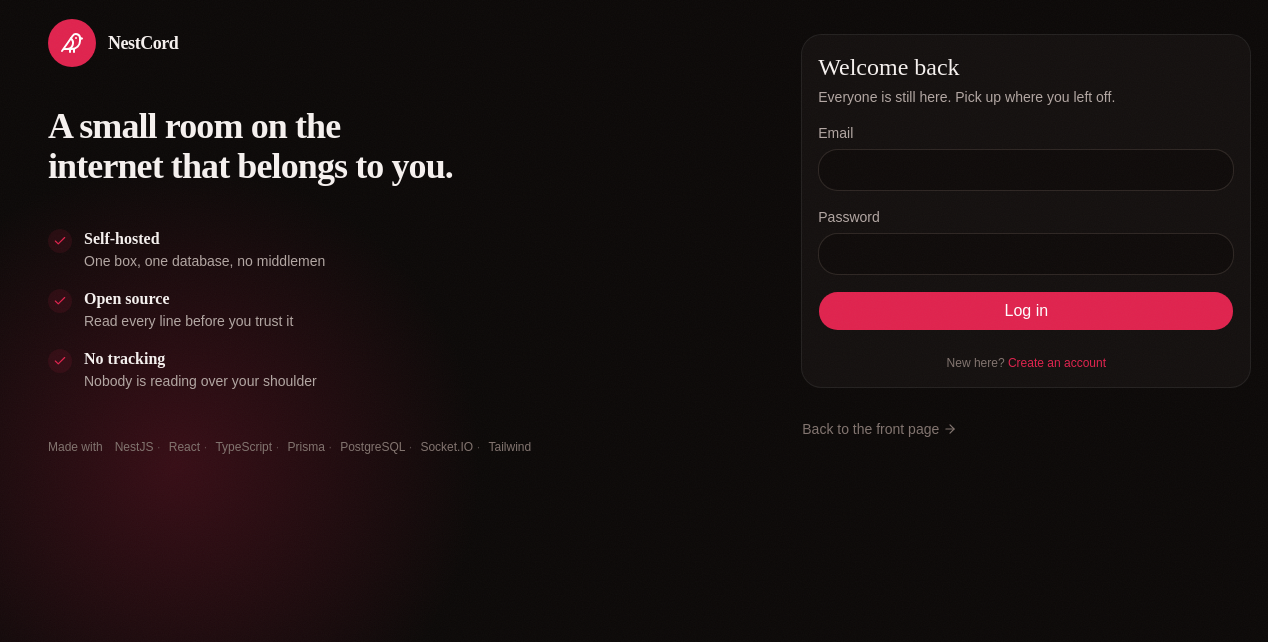
it: login flow › shows the server error and stays put when the password is wrong
The image size is (1268, 642).
Expected: the button "Log in" is shown, [818,291,1234,331]
Type "ada@nestcord.local" into the field labelled "Email" at (1026, 170), box [818,149,1234,191]
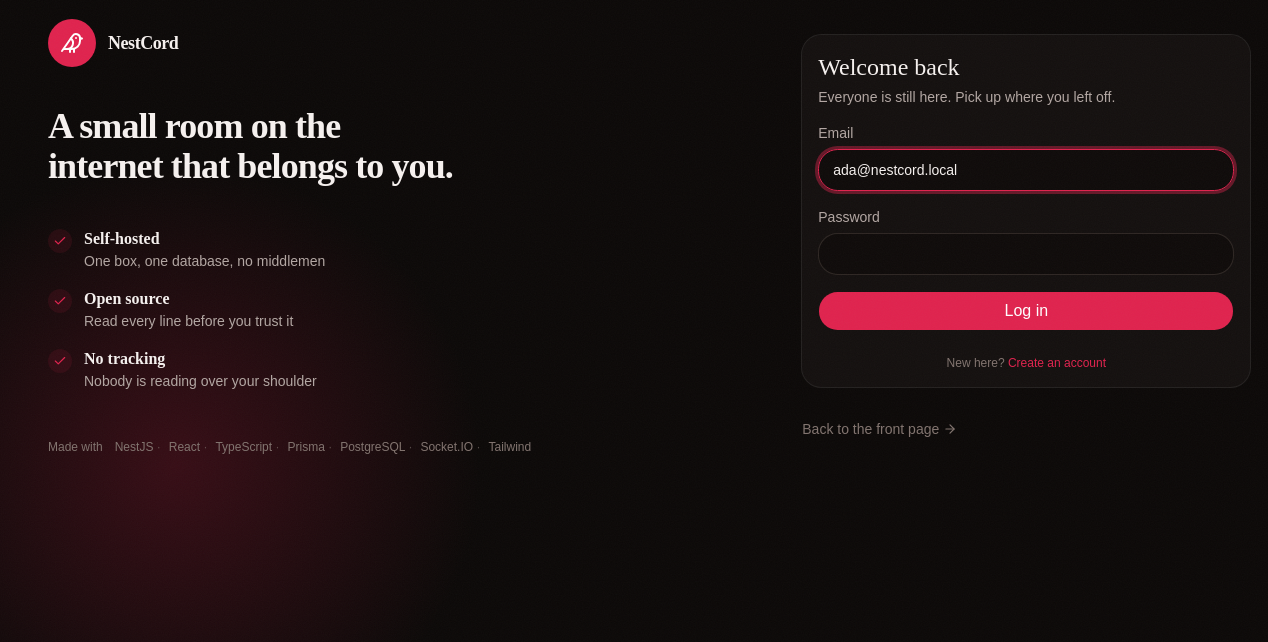
Type "wrong-password" into the password field labelled "Password" at (1026, 254), box [818,233,1234,275]
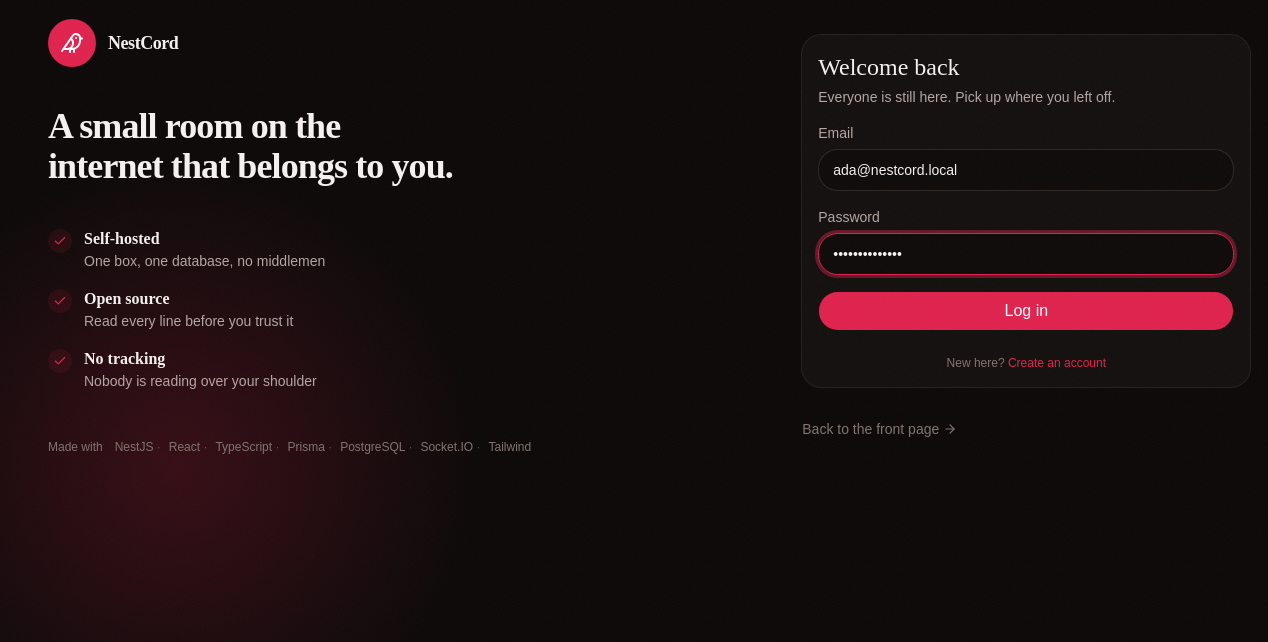
Click the button "Log in" at (1026, 311), box [818,291,1234,331]
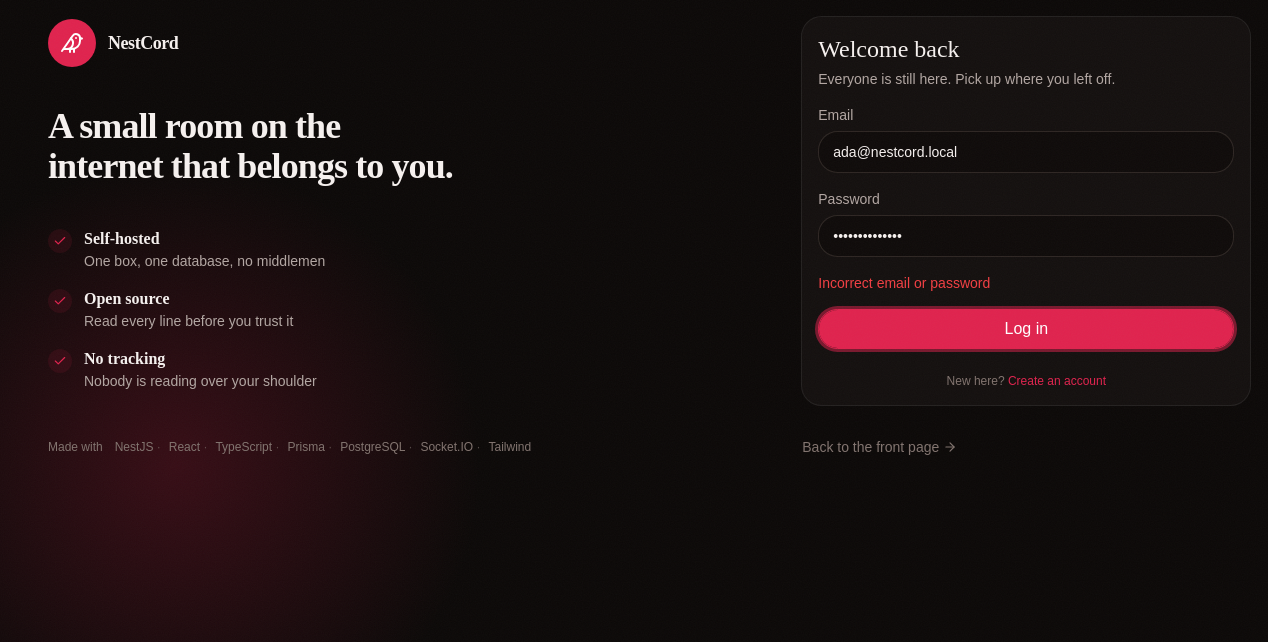
Expected: the message reads "Incorrect email or password", [818,275,990,291]
